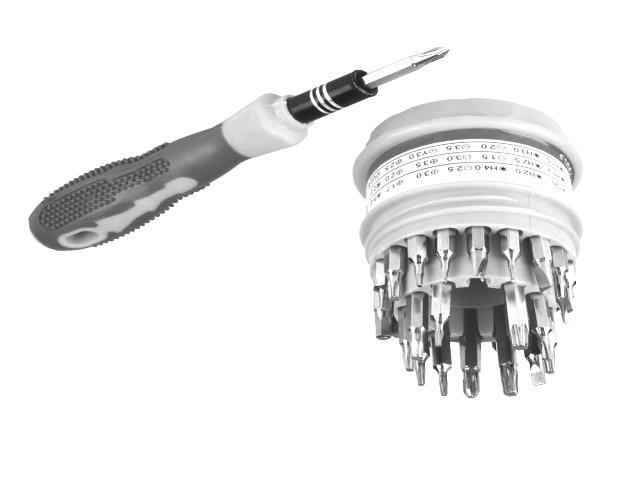Screwdriver: (29, 47, 449, 250)
